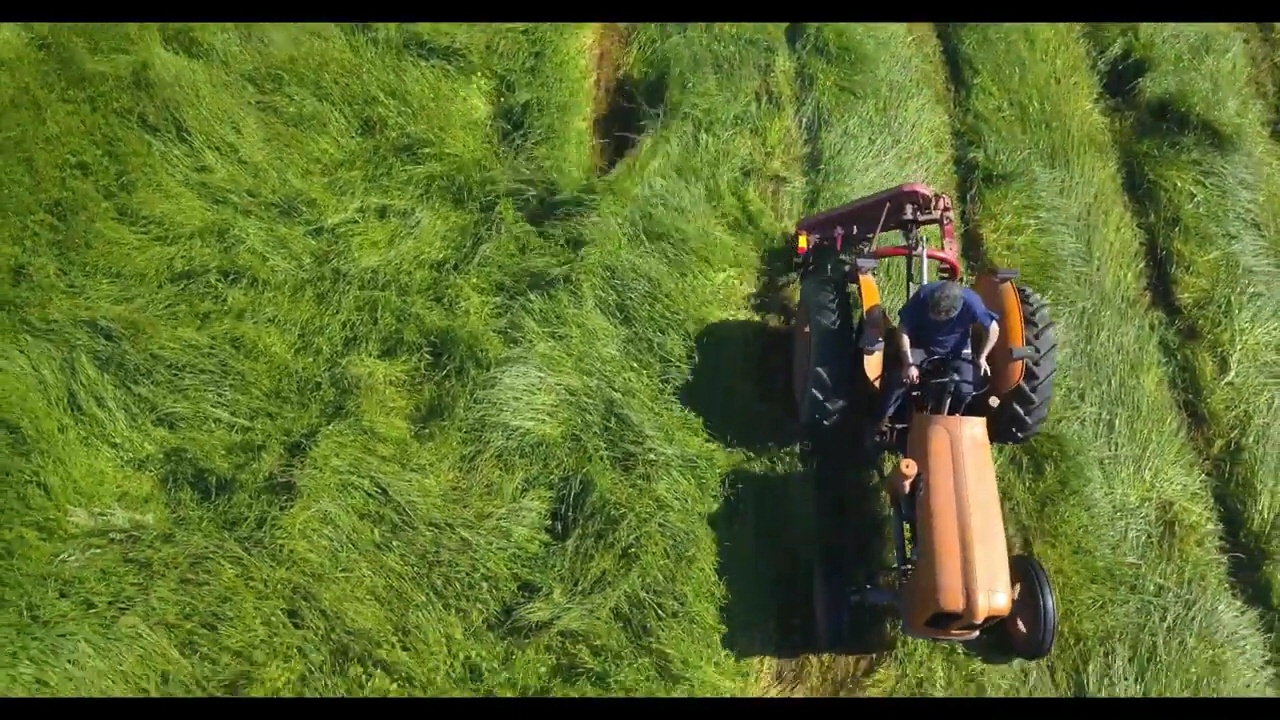insan: (889, 276, 1004, 422)
traktor: (789, 260, 1063, 665)
